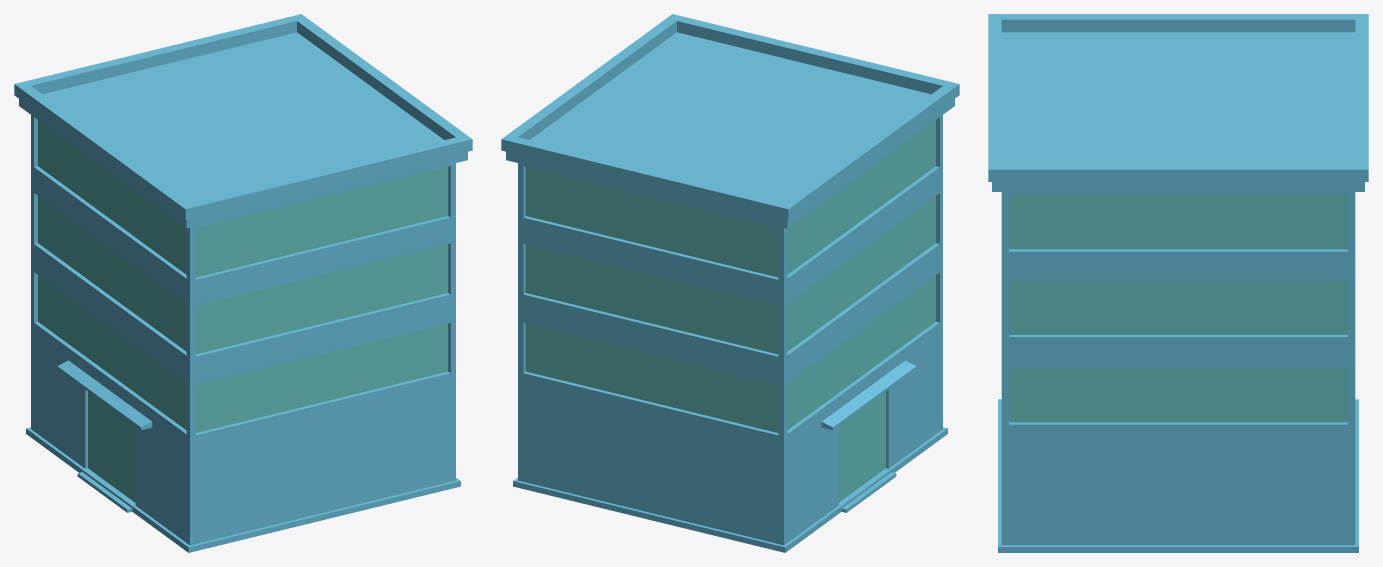
The model's file is BG_sptp_building_35.fbx.
3 renders of one model, left to right at view 1: azimuth 30°, elevation 25°; view 2: azimuth 150°, elevation 25°; view 3: azimuth 270°, elevation 25°, orthographic. The views are drawn at different scales.
Parts seen in each view (by area): view 1: sptp_building_35.001; view 2: sptp_building_35.001; view 3: sptp_building_35.001.
Boxes of the visible parts, <box> form: sptp_building_35.001: <box>14,14,472,552</box>; sptp_building_35.001: <box>501,14,959,552</box>; sptp_building_35.001: <box>988,14,1368,552</box>.
Bounding box in the file's own units: 3.64 × 4.21 × 3.75.
